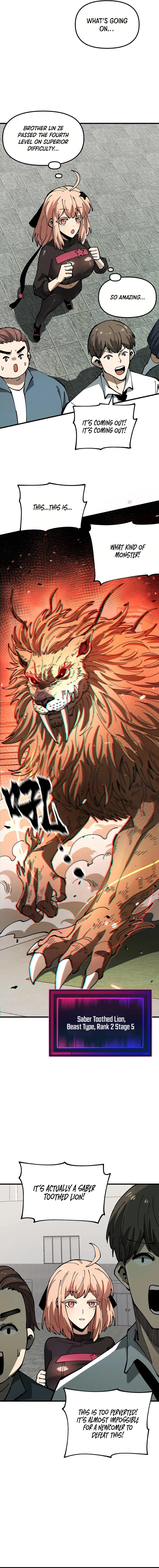bubbles: (46, 988, 154, 1058), (59, 1385, 153, 1461), (2, 107, 91, 182), (16, 1160, 113, 1224), (87, 521, 159, 591), (14, 480, 89, 535), (71, 393, 138, 454), (95, 265, 157, 320), (74, 0, 140, 51)
